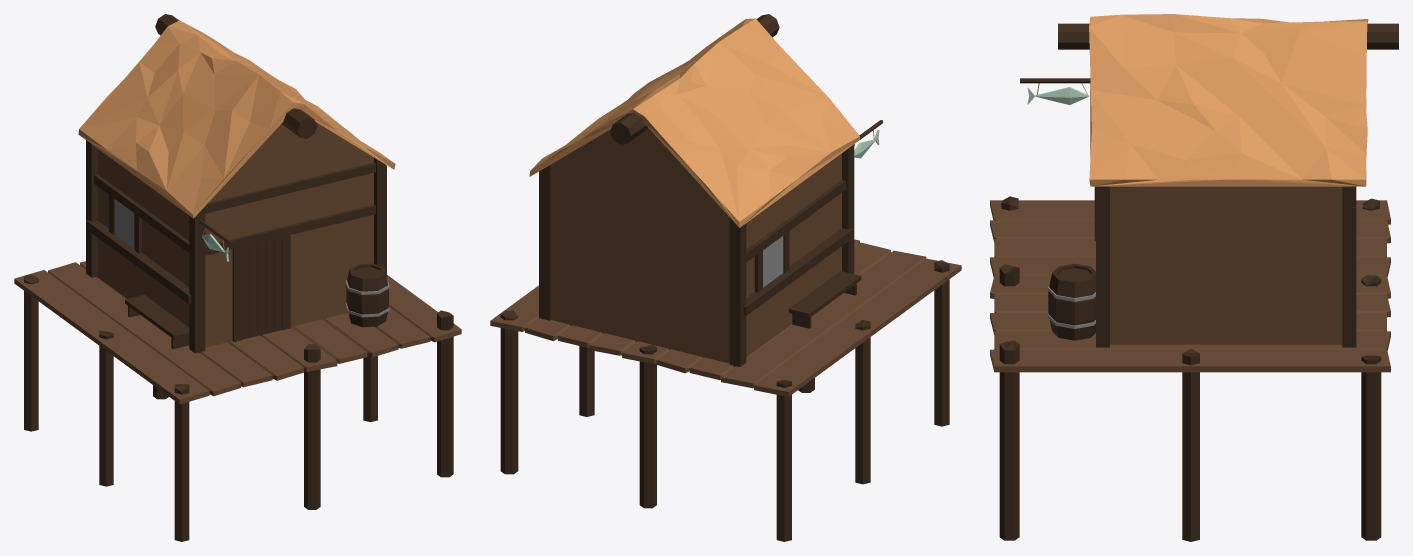
Rendered from fishery_house_mat.fbx.
The picture shows the model from 3 angles, left to right: view 1: azimuth 30°, elevation 25°; view 2: azimuth 150°, elevation 25°; view 3: azimuth 270°, elevation 25°; orthographic projection. The views are drawn at different scales.
Visible parts, largest first — view 1: fishery_house_mat; view 2: fishery_house_mat; view 3: fishery_house_mat.
Part boxes in pixels (x1,y1,x2,y2): fishery_house_mat: (14,14,461,541); fishery_house_mat: (490,14,961,541); fishery_house_mat: (990,14,1398,541).
Bounding box in the file's own units: 330 × 421 × 343.
